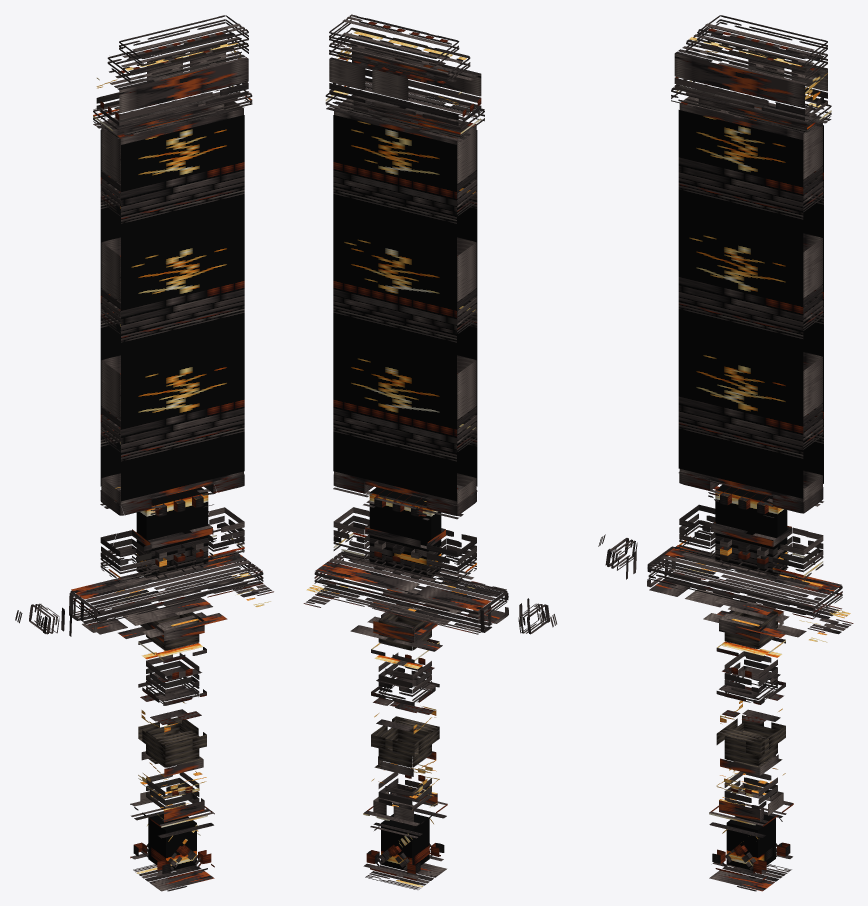
Rendered from kilnheart.obj.
The picture shows the model from 3 angles, left to right: view 1: azimuth 30°, elevation 25°; view 2: azimuth 150°, elevation 25°; view 3: azimuth 330°, elevation 25°; orthographic projection.
Parts seen in each view (by area): view 1: fire, lit; view 2: fire, lit; view 3: fire, lit.
Part boxes in pixels (x1=…): fire: x1=100, y1=115, x2=244, y2=870; lit: x1=15, y1=15, x2=273, y2=891; fire: x1=333, y1=115, x2=477, y2=870; lit: x1=303, y1=14, x2=556, y2=889; fire: x1=678, y1=110, x2=823, y2=870; lit: x1=598, y1=15, x2=853, y2=891.
Bounding box in the file's own units: 1.06 × 3.6 × 0.2375.
